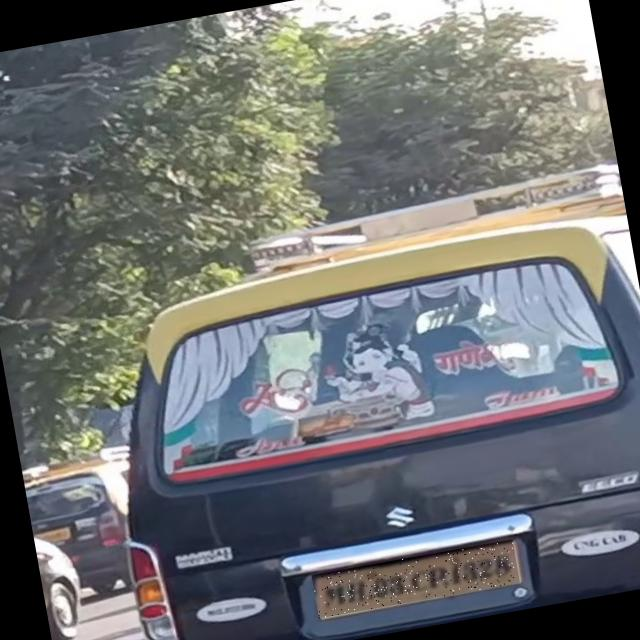Plate: (312, 540, 521, 619)
